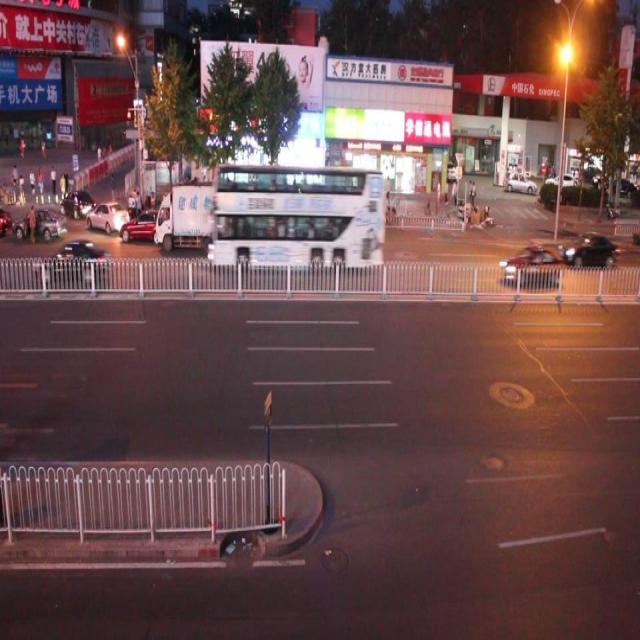bus: (153, 184, 240, 259)
car: (32, 240, 114, 287), (497, 241, 563, 288), (558, 227, 619, 274), (120, 210, 182, 251), (13, 204, 69, 248), (86, 200, 129, 242), (59, 186, 98, 223)
van: (207, 156, 388, 278)
